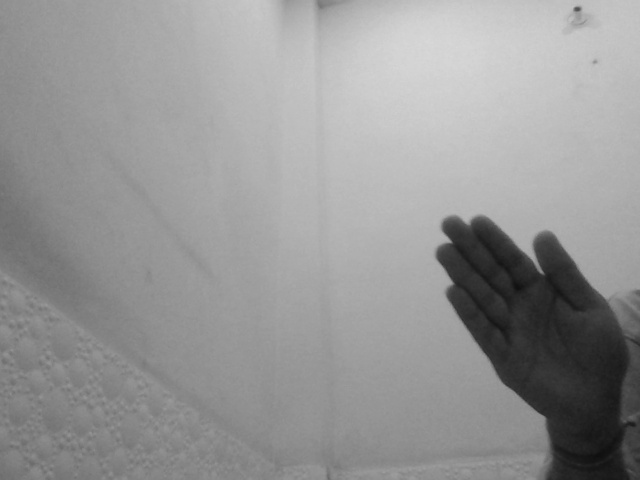Hello: (434, 212, 633, 431)
